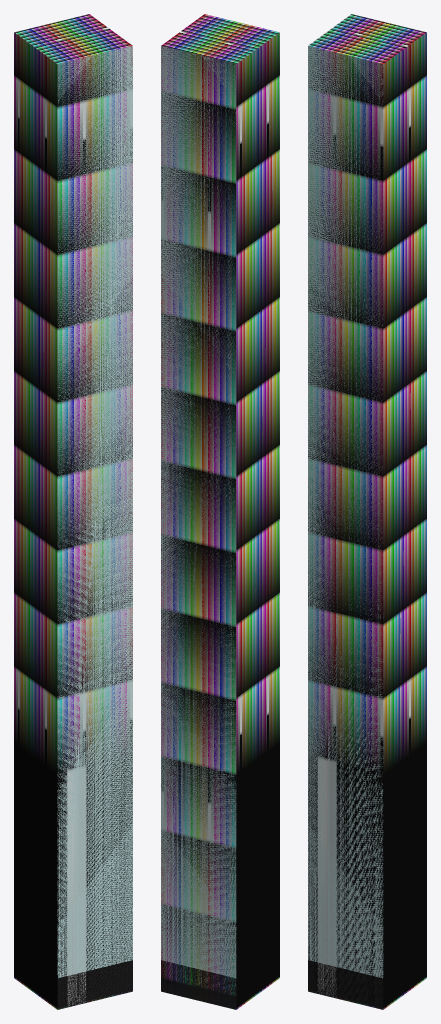
The model's file is interiorWall_line_q.fbx.
The picture shows the model from 3 angles, left to right: view 1: azimuth 30°, elevation 25°; view 2: azimuth 150°, elevation 25°; view 3: azimuth 330°, elevation 25°; orthographic projection.
Visible parts, largest first — view 1: trigger, interiorWall_line_q; view 2: trigger, interiorWall_line_q; view 3: trigger, interiorWall_line_q.
Part boxes in pixels (x1,y1,x2,y2): trigger: (14, 14, 132, 1009); interiorWall_line_q: (57, 46, 132, 1009); trigger: (161, 14, 279, 1009); interiorWall_line_q: (161, 46, 236, 1009); trigger: (308, 14, 426, 1009); interiorWall_line_q: (308, 46, 383, 1009).
Size of what is drawn, in the model's own units: 25 by 300 by 25.
